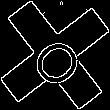O_NE: (21, 22, 89, 88)
